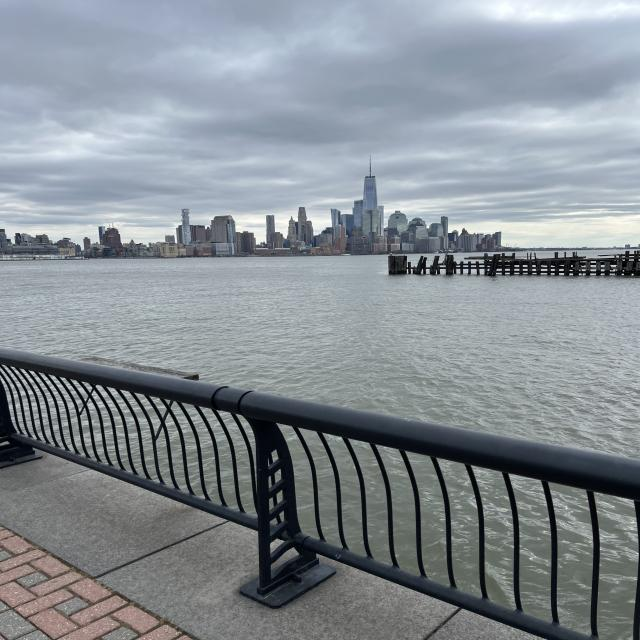WTC: (362, 155, 377, 214)
